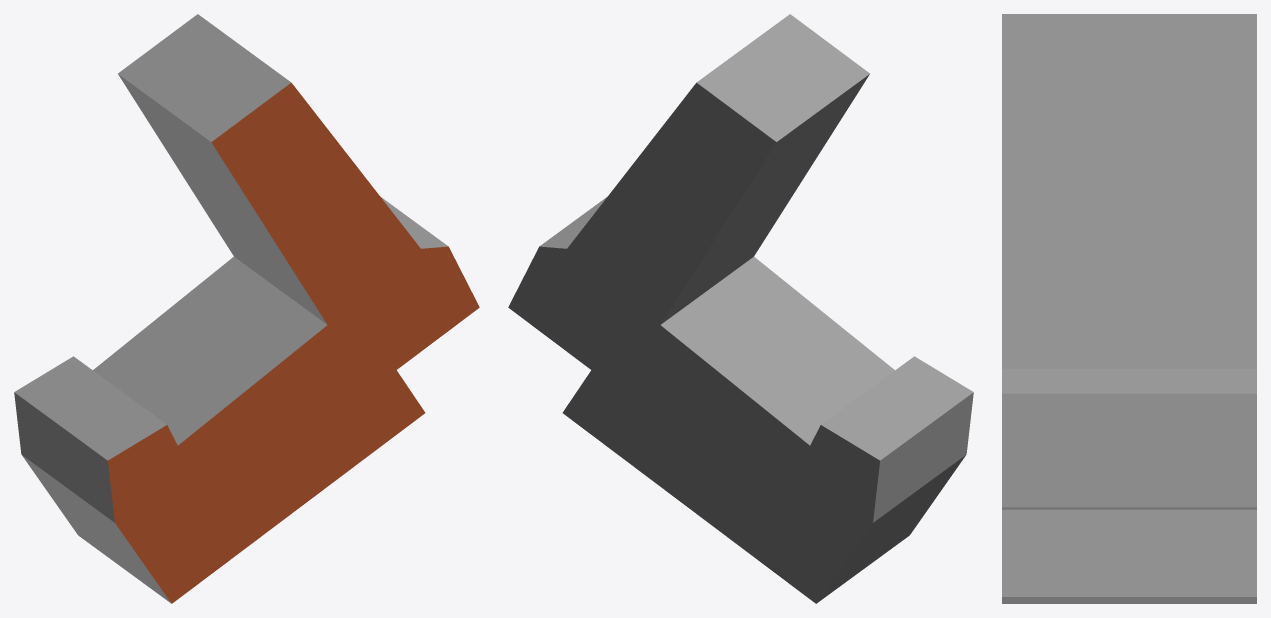
The model's file is construction_5913_assumed_A_Casa_h6m.obj.
3 renders of one model, left to right at view 1: azimuth 30°, elevation 25°; view 2: azimuth 150°, elevation 25°; view 3: azimuth 270°, elevation 25°, orthographic. The views are drawn at different scales.
Parts seen in each view (by area): view 1: construction_5913_assumed_A_Casa; view 2: construction_5913_assumed_A_Casa; view 3: construction_5913_assumed_A_Casa.
Part boxes in pixels (<box>): construction_5913_assumed_A_Casa: <box>14,14,479,603</box>; construction_5913_assumed_A_Casa: <box>508,14,973,603</box>; construction_5913_assumed_A_Casa: <box>1002,14,1256,603</box>.
Bounding box in the file's own units: 13.76 × 17.4 × 6.
